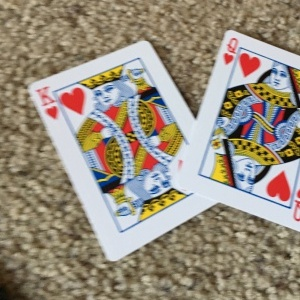card: (26, 42, 207, 258)
